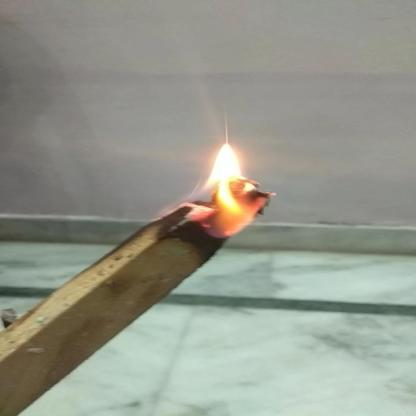fire: (163, 136, 289, 241)
